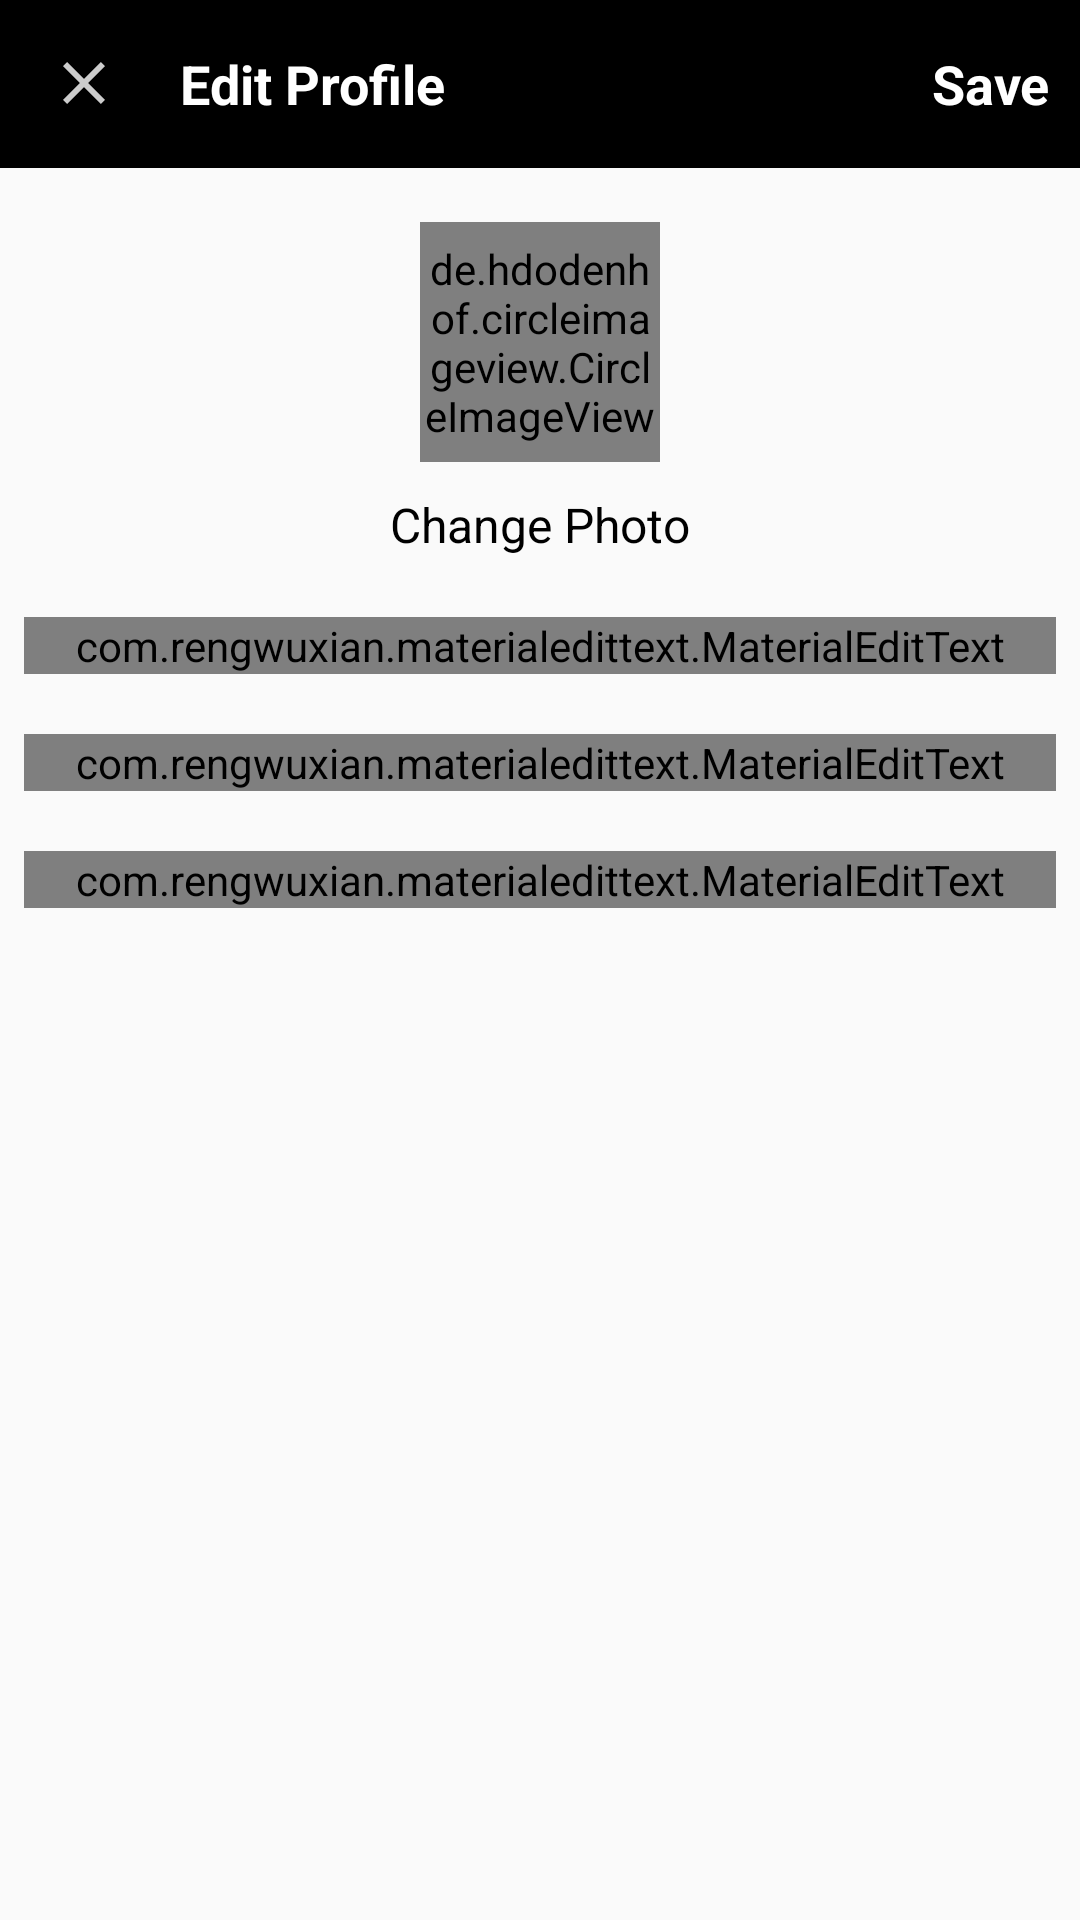

Icons on this 1080x1920 Android screen, each with the point to tap as (x,y):
close: (84,83)
